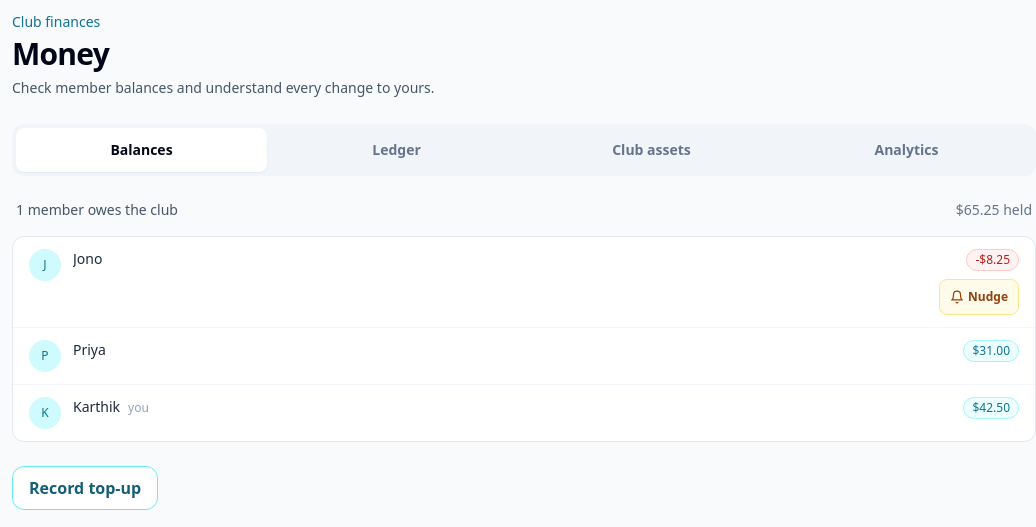
Test case: Money › explains when a nudge is saved without push delivery
Click the button with aria-label "Nudge Jono to top up" at point(979, 297), box x1=939 y1=279 x2=1019 y2=315
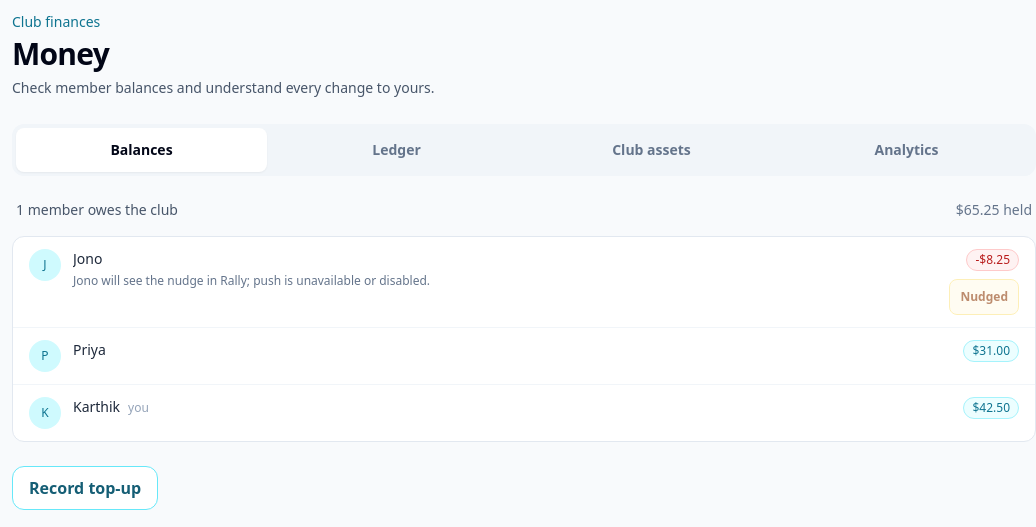
Expected: the text "Jono will see the nudge in Rally; push is unavailable or disabled." is shown, x1=73 y1=272 x2=430 y2=289
